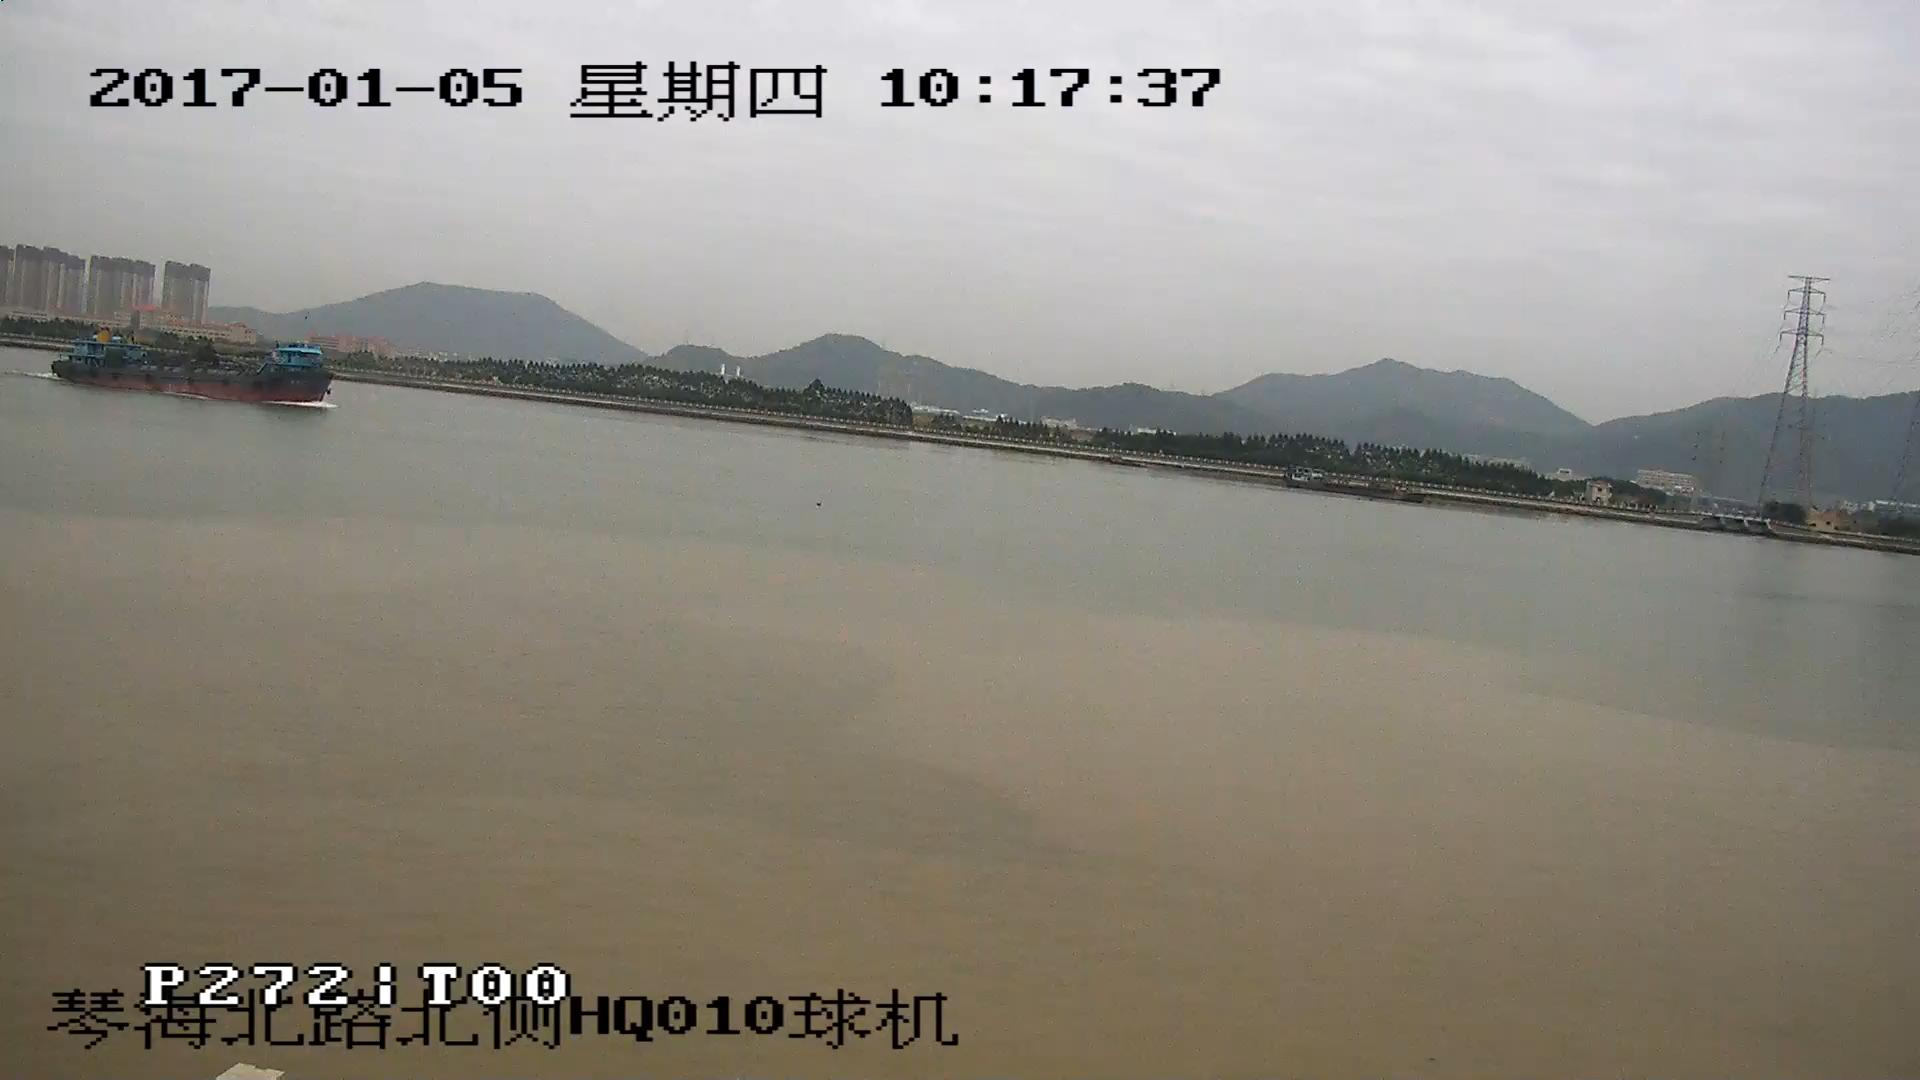bulk cargo carrier: (55, 319, 321, 407)
